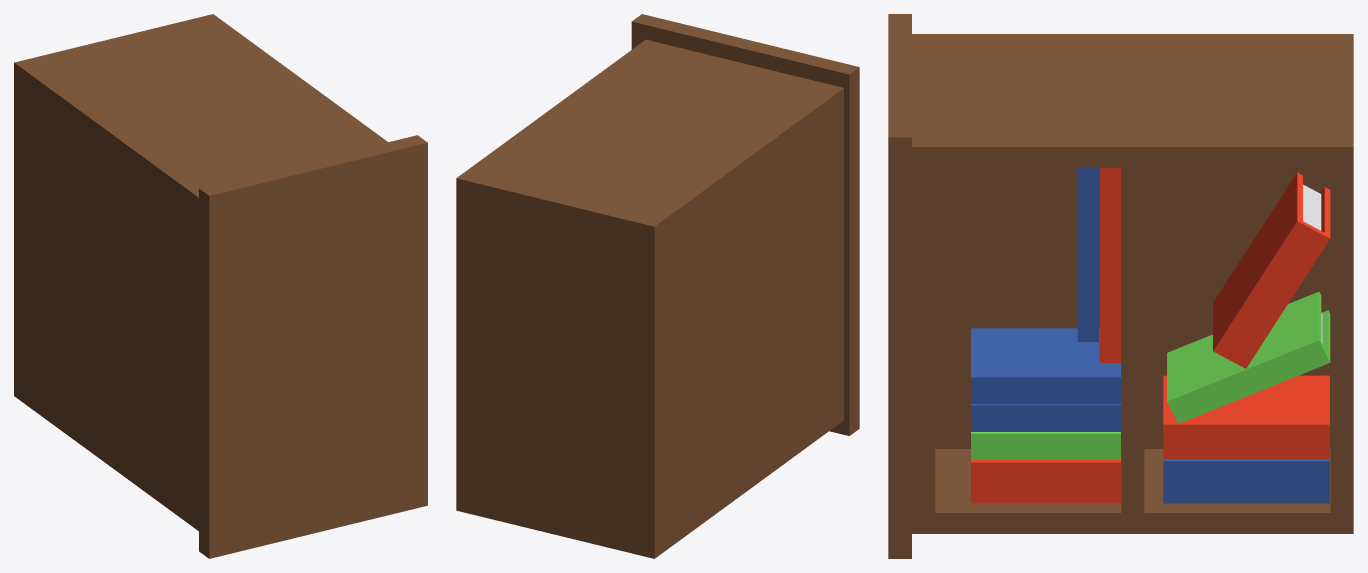
The model's file is Shelf.fbx.
3 renders of one model, left to right at view 1: azimuth 30°, elevation 25°; view 2: azimuth 150°, elevation 25°; view 3: azimuth 270°, elevation 25°, orthographic. The views are drawn at different scales.
Visible parts, largest first — view 1: Shelf small; view 2: Shelf small; view 3: Shelf small.
Boxes of the visible parts, x1=… form: Shelf small: x1=14, y1=14, x2=427, y2=558; Shelf small: x1=456, y1=14, x2=859, y2=558; Shelf small: x1=888, y1=14, x2=1353, y2=558.
Size of the model in its own units: 126 by 200 by 200.
